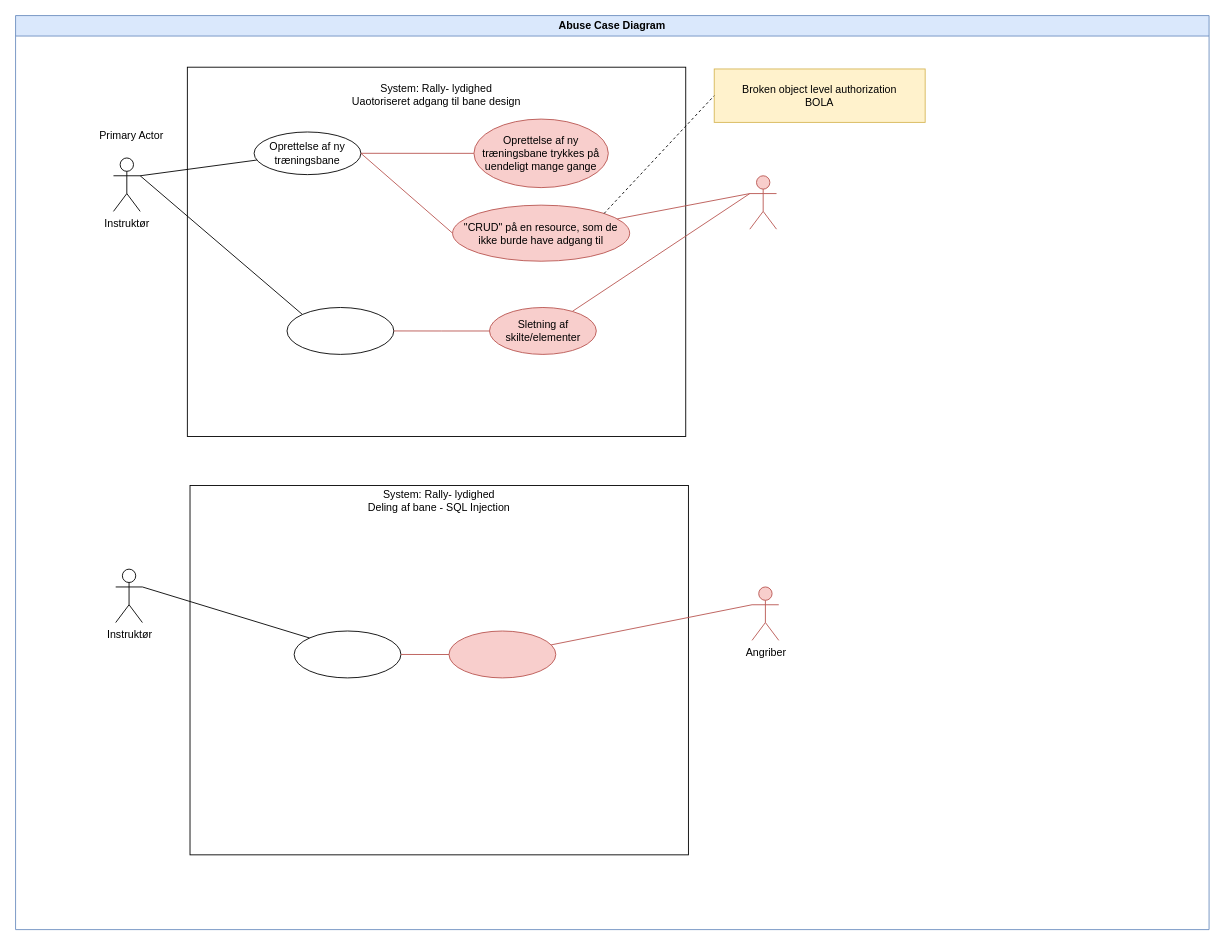
Image size: 1225x945. Some labels were removed from this diagram. The shapes that lost their labels are listed below. From the top down, each one's box as (x1, y1, x2, y2) in pixels, then its label:
(749, 175, 777, 229): Uautoriseret bruger
(286, 307, 394, 354): Se bane design
(293, 630, 401, 678): Søg efter inskruktører
(448, 630, 556, 678): Udfør SQL injection
